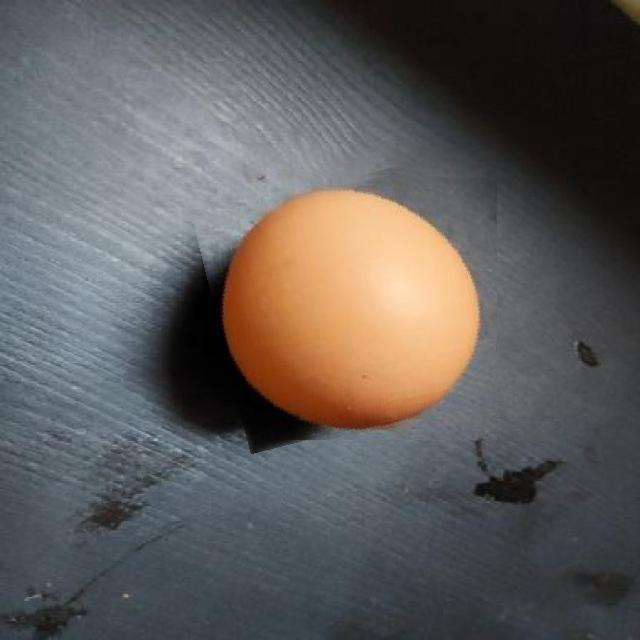biodegradable: (205, 168, 497, 440)
